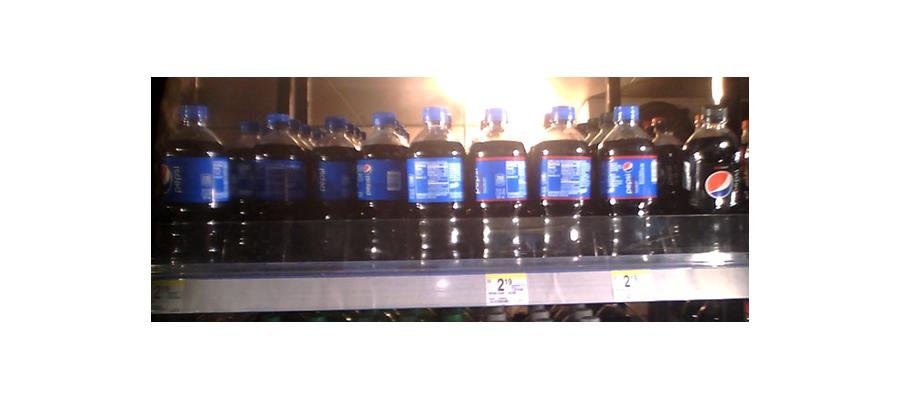bottle: (159, 95, 231, 267), (247, 103, 309, 263), (532, 102, 594, 261), (600, 104, 662, 258), (408, 108, 469, 264), (469, 121, 530, 263), (685, 102, 738, 262), (357, 109, 410, 263), (309, 110, 360, 260)
